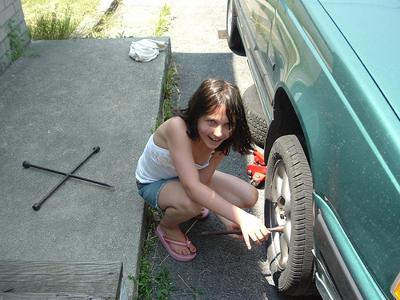person: (132, 77, 271, 262)
